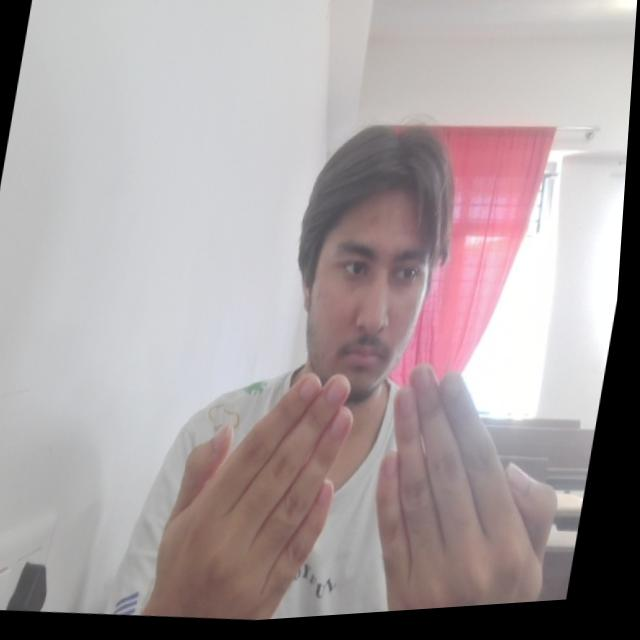thankyou: (153, 332, 593, 630)
